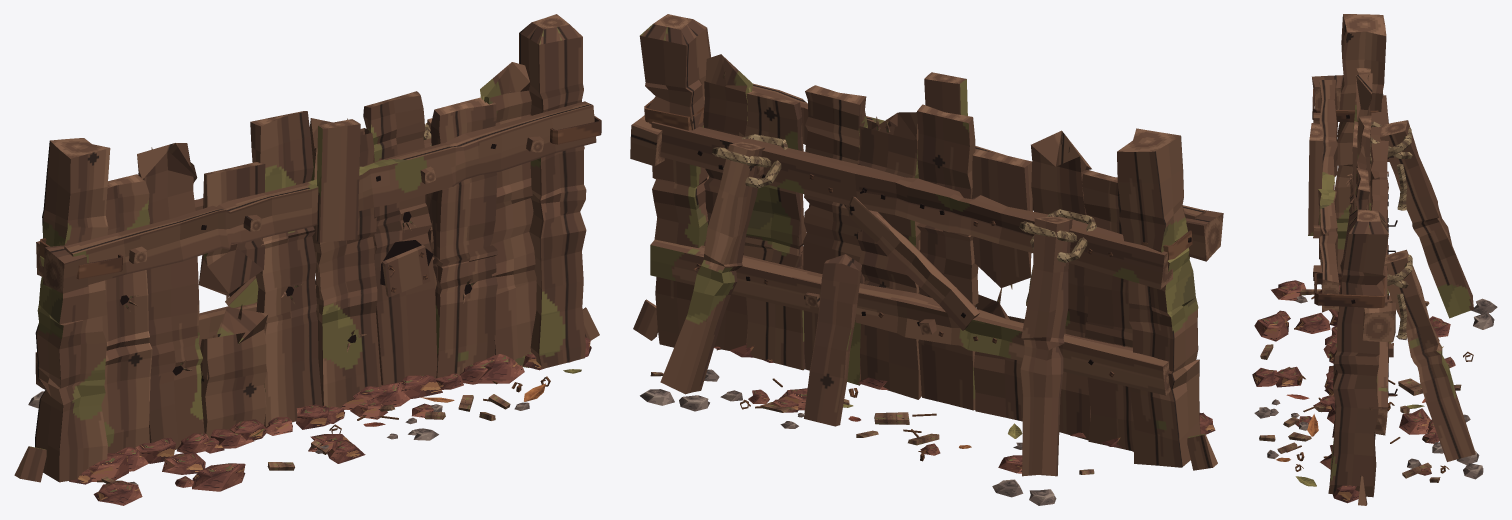
File: SM_AN18_Barricade.fbx
The picture shows the model from 3 angles, left to right: view 1: azimuth 30°, elevation 25°; view 2: azimuth 150°, elevation 25°; view 3: azimuth 270°, elevation 25°; orthographic projection. The views are drawn at different scales.
Visible parts, largest first — view 1: AN18a_Wood, AN18a_Props; view 2: AN18a_Wood, AN18a_Props; view 3: AN18a_Wood, AN18a_Props.
Part boxes in pixels (left/top/right/bottom): AN18a_Wood: left=14, top=22, right=599, bottom=482; AN18a_Props: left=28, top=14, right=601, bottom=505; AN18a_Wood: left=630, top=19, right=1223, bottom=476; AN18a_Props: left=640, top=14, right=1223, bottom=505; AN18a_Wood: left=1308, top=15, right=1475, bottom=505; AN18a_Props: left=1252, top=14, right=1497, bottom=503.
Bounding box in the file's own units: 2.76 × 1.49 × 1.18.
